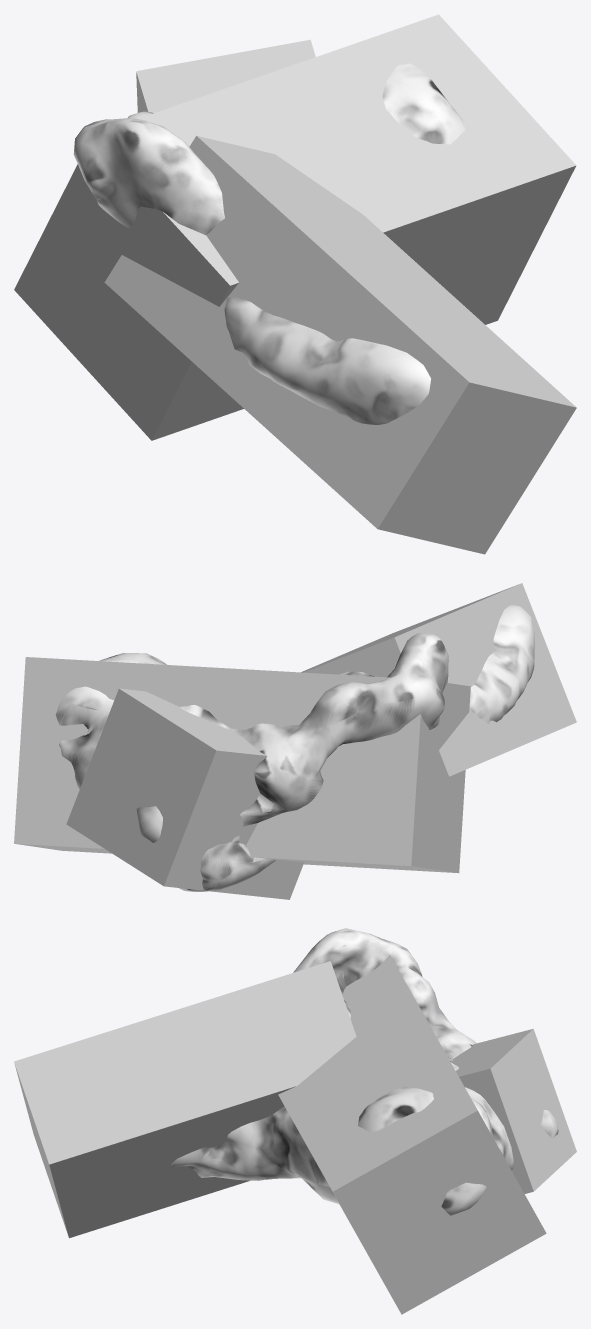
Rendered from Coral_12.glb.
3 renders of one model, top to bottom at view 1: azimuth 30°, elevation 25°; view 2: azimuth 150°, elevation 25°; view 3: azimuth 270°, elevation 25°, orthographic. The views are drawn at different scales.
Parts seen in each view (by area): view 1: Cube.034, Cube.033, A03612_Koralle12.001, Cube.035; view 2: Cube.034, A03612_Koralle12.001, Cube.035, Cube.033; view 3: Cube.033, Cube.034, A03612_Koralle12.001, Cube.035.
Part boxes in pixels (x1,y1,x2,y2): Cube.034: [14, 14, 576, 440]; Cube.033: [104, 135, 576, 554]; A03612_Koralle12.001: [73, 63, 465, 424]; Cube.035: [136, 39, 315, 113]; Cube.034: [14, 657, 470, 873]; A03612_Koralle12.001: [55, 605, 534, 891]; Cube.035: [66, 688, 304, 899]; Cube.033: [301, 583, 576, 780]; Cube.033: [14, 961, 356, 1238]; Cube.034: [278, 955, 546, 1314]; A03612_Koralle12.001: [171, 928, 558, 1215]; Cube.035: [452, 1028, 576, 1193].
Bounding box in the file's own units: 0.2495 × 0.1656 × 0.3387.
1 material, 1 textured.
